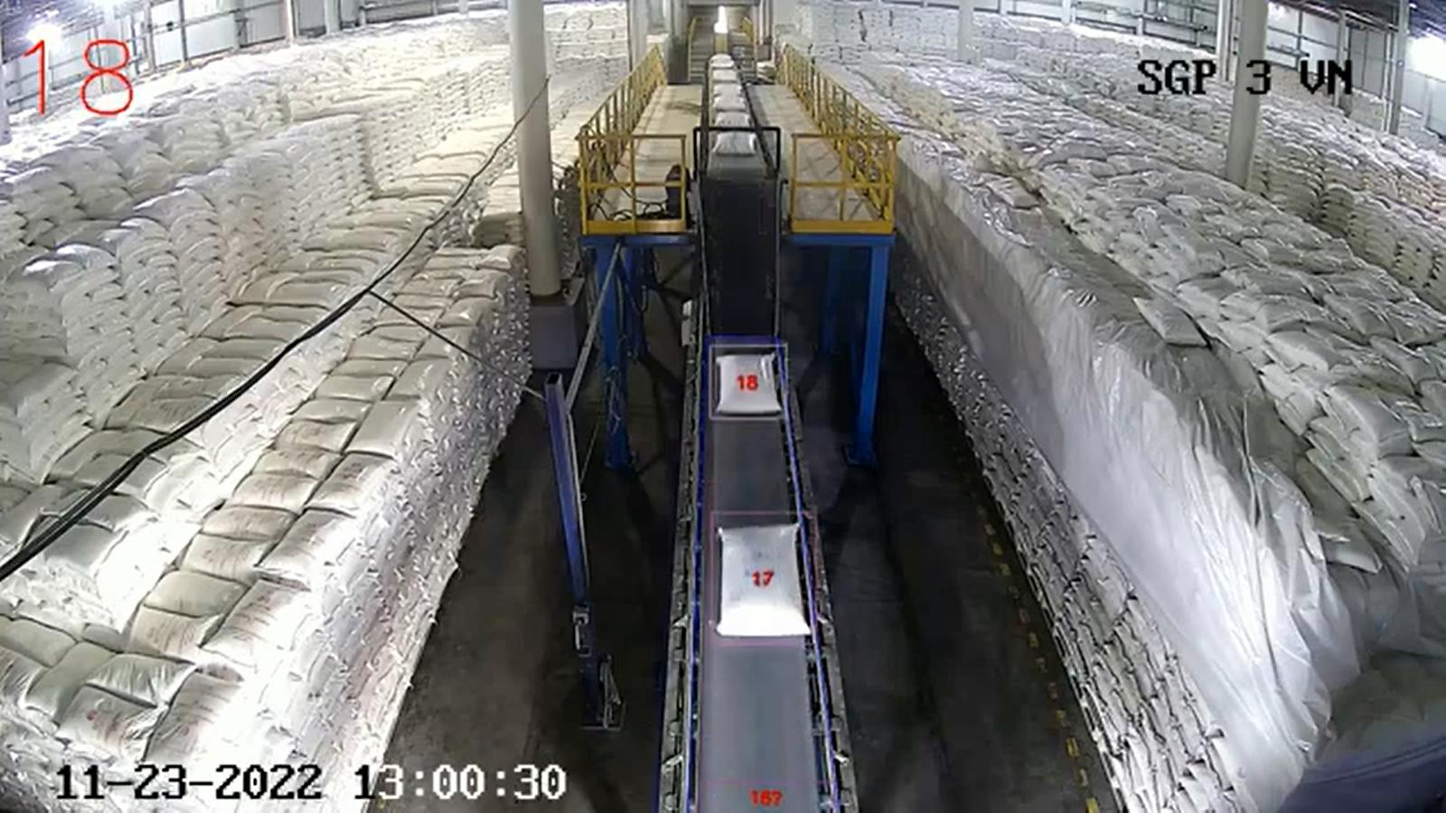rice-bag: (716, 523, 807, 637), (717, 354, 780, 415)
